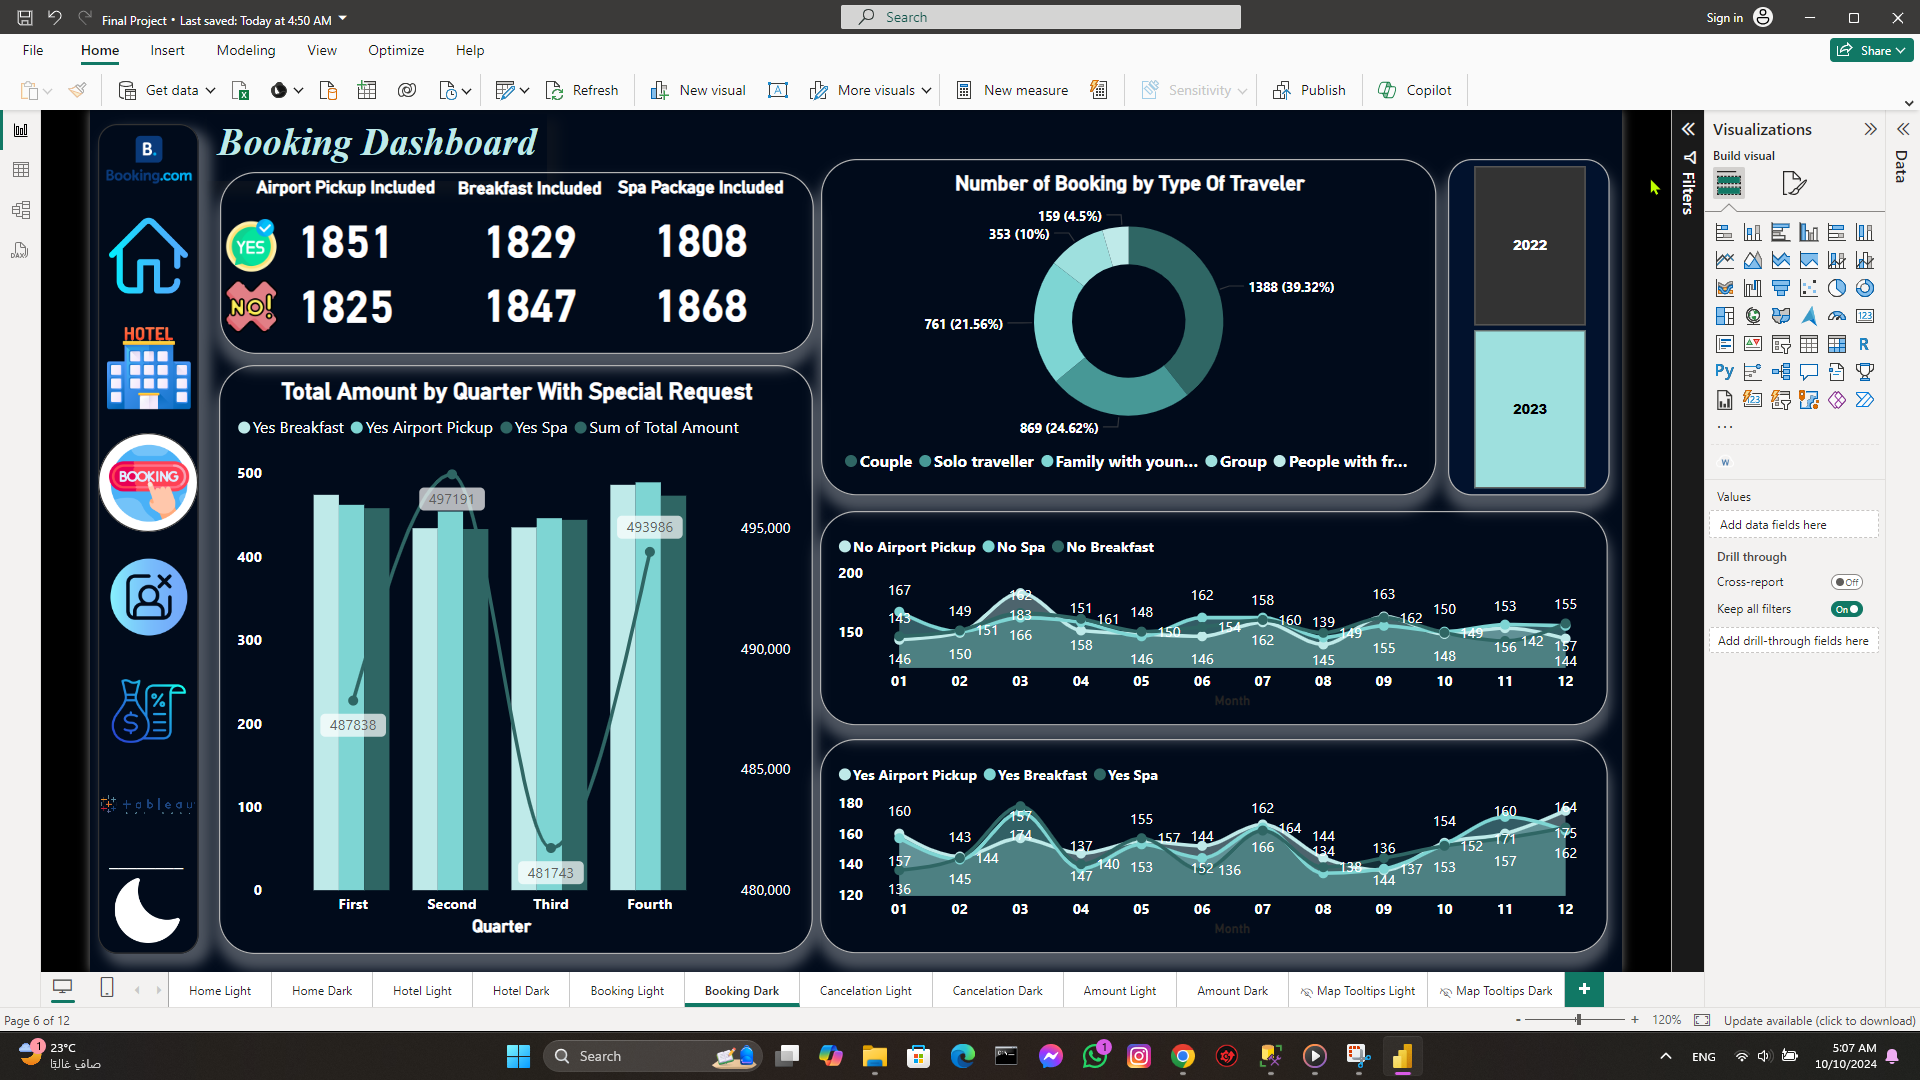

The dashboard page shown, as its layout file describes it:
{"tool":"tableau","page":{"name":"Booking Dashboard ","canvas":[1450,830],"ordinal":0},"visuals":[{"type":"image","param":"Image/boas.jpg","box":[8,8,1434,814]},{"type":"text","box":[508,26.4,370,34.2]},{"type":"image","param":"Image/choose.png","box":[91,28.3,47,39.1]},{"type":"text","box":[65,75.2,100,29.3]},{"type":"worksheet","title":"Num Of Completed and Cancelled Booking","mark":"Pie","box":[218,89,374,191]},{"type":"worksheet","title":" Booking with Breakfast Included","mark":"Automatic","rows":["Calculation_673288203220189195","Calculation_673288203220189195"],"box":[597,92,372,186]},{"type":"worksheet","title":"Bookings By Room Type ","mark":"Automatic","rows":["Booking_id_SK","Booking_id_SK"],"cols":["Room Type"],"box":[992,93,427,384]},{"type":"dashboard-object","box":[26,133.8,174,52.7]},{"type":"dashboard-object","box":[27,210.9,174,46.9]},{"type":"dashboard-object","box":[26,284.2,174,46.9]},{"type":"worksheet","title":" Booking with Spa Included","mark":"Automatic","rows":["Calculation_673288203220189195","Calculation_673288203220189195"],"box":[222,291,369,194]},{"type":"worksheet","title":" Booking with Airport Pickup Included","mark":"Automatic","rows":["Calculation_673288203220189195","Calculation_673288203220189195"],"box":[599,292,372,191]},{"type":"dashboard-object","box":[26,357.4,174,46.9]},{"type":"dashboard-object","box":[26,437.5,174,46.9]},{"type":"worksheet","title":"Num Of Bookings By Countries","mark":"Automatic","rows":["Booking_id_SK"],"cols":["Country"],"box":[219,496,1203,310]},{"type":"blank","box":[53,504,123,2]},{"type":"text","box":[80,519,73,34]},{"type":"dashboard-object","box":[71,565,76,39]},{"type":"dashboard-object","box":[122,565,91,39]},{"type":"blank","box":[51,631,123,2]},{"type":"text","box":[47,644,144,25]},{"type":"image","param":"Image/Microsoft-Power-BI-Symbol.png","box":[75,676,77,61]}]}

Visuals, with their boxes on the page's 1450x830 design canvas (x1, y1, x2, y2). These are canvas units, not pixel positions in the 1920x1080 screenshot, which may show the page scaled, cropped or inside an application window:
image: bbox=(8, 8, 1442, 822)
text: bbox=(508, 26, 878, 61)
image: bbox=(91, 28, 138, 67)
text: bbox=(65, 75, 165, 104)
"Num Of Completed and Cancelled Booking" worksheet (Pie marks): bbox=(218, 89, 592, 280)
" Booking with Breakfast Included" worksheet: bbox=(597, 92, 969, 278)
"Bookings By Room Type " worksheet: bbox=(992, 93, 1419, 477)
dashboard-object: bbox=(26, 134, 200, 186)
dashboard-object: bbox=(27, 211, 201, 258)
dashboard-object: bbox=(26, 284, 200, 331)
" Booking with Spa Included" worksheet: bbox=(222, 291, 591, 485)
" Booking with Airport Pickup Included" worksheet: bbox=(599, 292, 971, 483)
dashboard-object: bbox=(26, 357, 200, 404)
dashboard-object: bbox=(26, 438, 200, 484)
"Num Of Bookings By Countries" worksheet: bbox=(219, 496, 1422, 806)
blank: bbox=(53, 504, 176, 506)
text: bbox=(80, 519, 153, 553)
dashboard-object: bbox=(71, 565, 147, 604)
dashboard-object: bbox=(122, 565, 213, 604)
blank: bbox=(51, 631, 174, 633)
text: bbox=(47, 644, 191, 669)
image: bbox=(75, 676, 152, 737)
